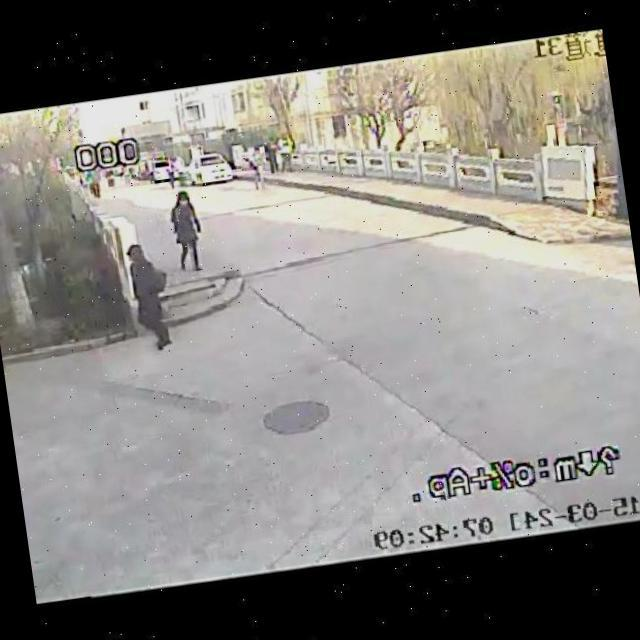person: (116, 236, 184, 355), (159, 177, 217, 278), (244, 140, 273, 198), (78, 160, 108, 206), (276, 122, 298, 177), (141, 153, 160, 187), (162, 158, 183, 186), (102, 160, 120, 192)
